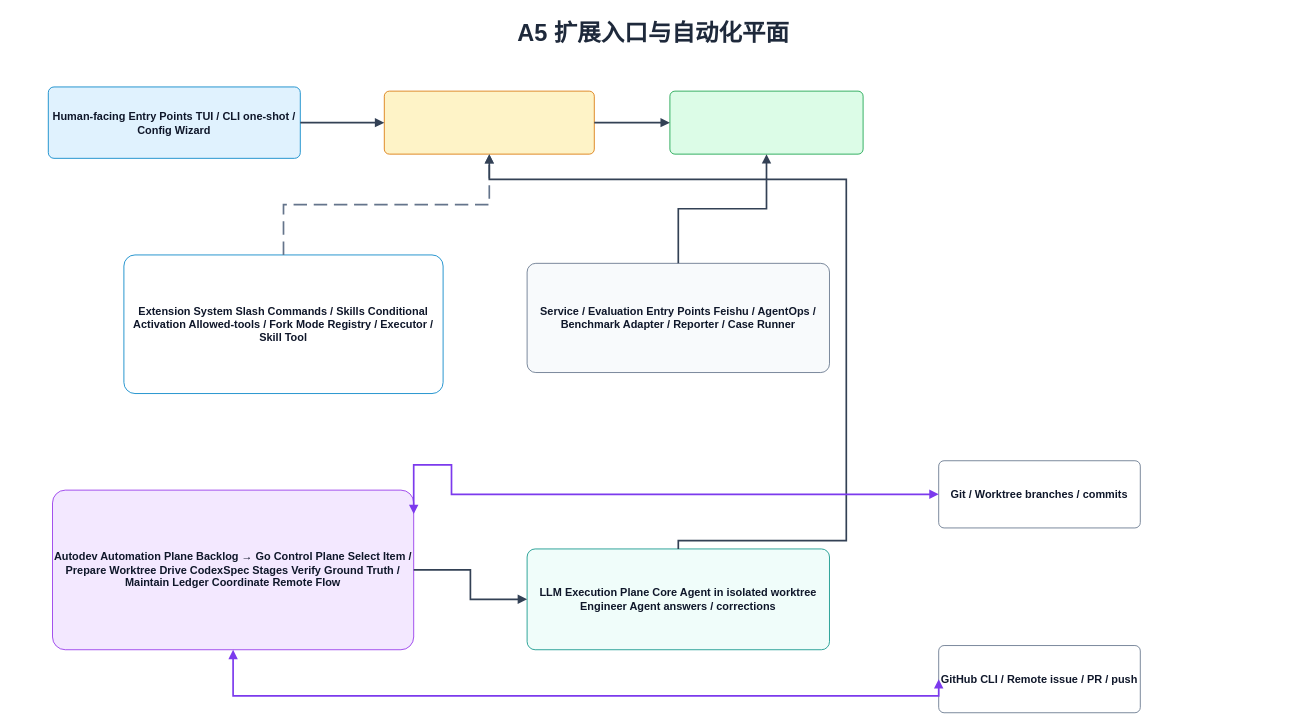
Image size: 1305x727. Some labels were removed from this diagram. Each missing label, with the box of its shape:
Agent Runtime 推理 / 工具 / 状态: (669, 90, 863, 154)
Shared Runner 普通 Agent 运行复用边界: (383, 90, 594, 154)
